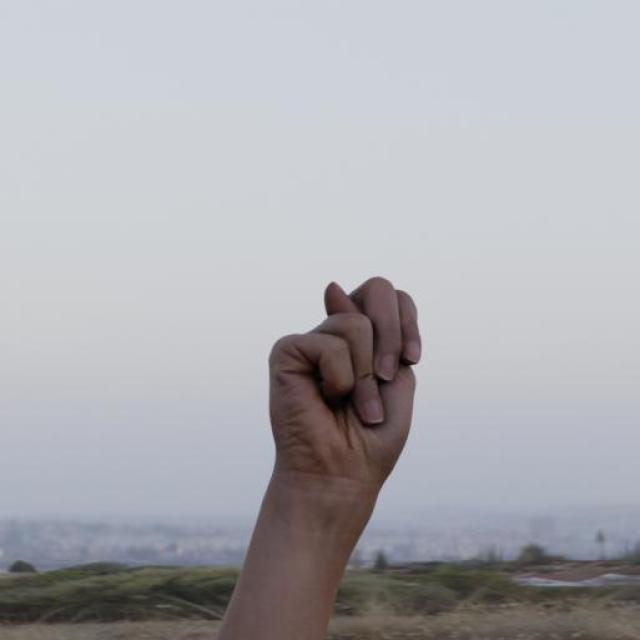N: (265, 272, 425, 492)
